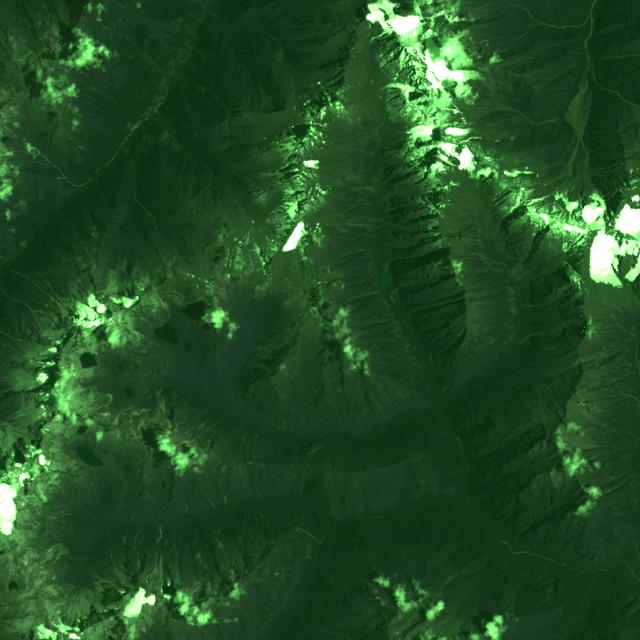landslides: (0, 285, 68, 342), (135, 198, 185, 266), (13, 269, 68, 318), (109, 538, 137, 589), (43, 279, 79, 309), (242, 507, 263, 552), (0, 330, 35, 357), (0, 112, 34, 138), (151, 546, 169, 595), (86, 587, 115, 617), (0, 152, 53, 167), (151, 290, 171, 322), (0, 342, 33, 361), (94, 580, 130, 596), (304, 436, 330, 456), (146, 549, 159, 586), (0, 199, 24, 219), (103, 25, 133, 41), (54, 479, 73, 504), (184, 349, 196, 387), (50, 544, 69, 568), (40, 542, 60, 564), (34, 310, 60, 326), (297, 528, 321, 545), (187, 423, 205, 444), (44, 77, 71, 90), (216, 514, 225, 551), (620, 390, 640, 404), (379, 407, 392, 425), (346, 222, 375, 230), (176, 551, 183, 584), (106, 10, 117, 30), (177, 461, 187, 483), (197, 551, 208, 569), (141, 317, 155, 331), (356, 185, 375, 194), (14, 337, 32, 346), (318, 513, 331, 525), (183, 426, 198, 436), (184, 430, 196, 440), (242, 427, 252, 438), (90, 571, 102, 580), (43, 136, 50, 151), (13, 110, 26, 118)
